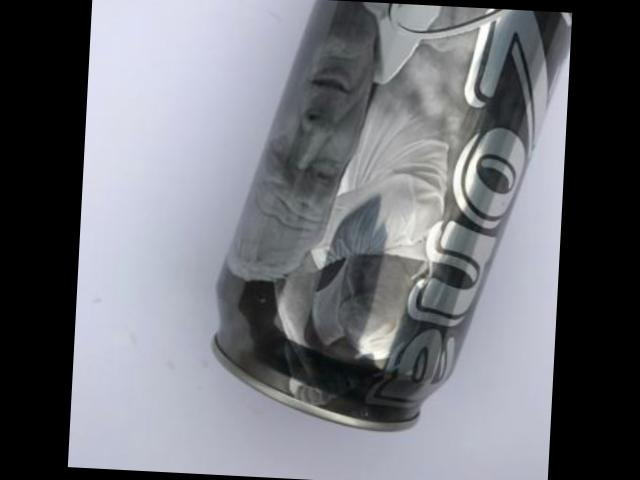metal: (217, 0, 572, 428)
